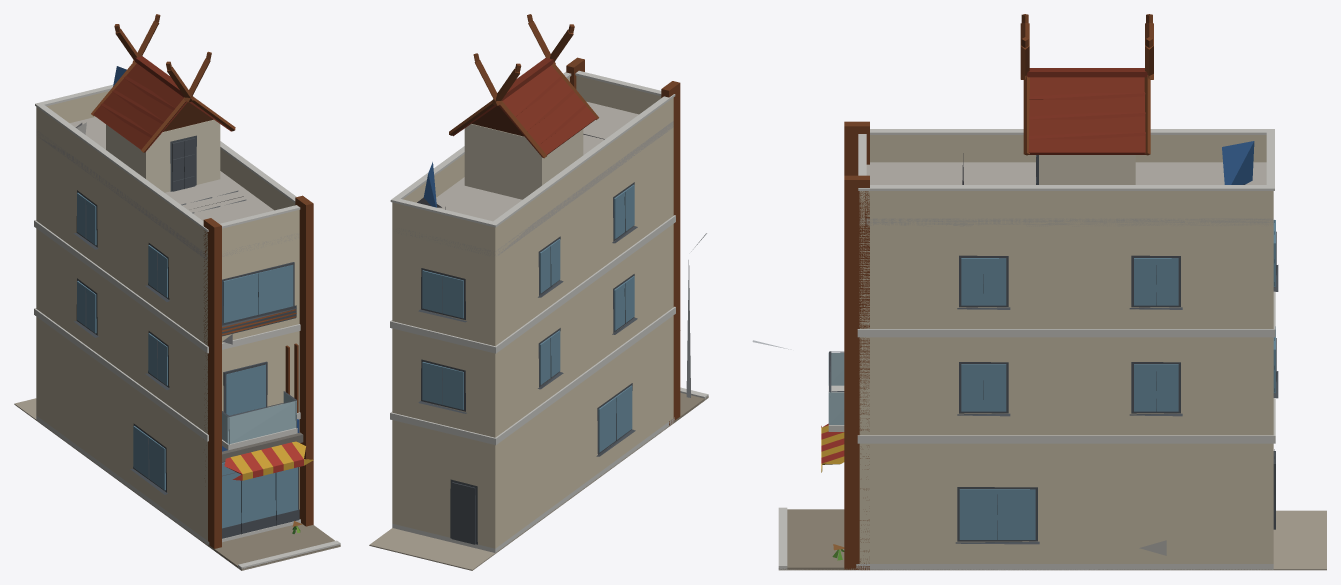
File: bay1_one.glb
3 renders of one model, left to right at view 1: azimuth 30°, elevation 25°; view 2: azimuth 150°, elevation 25°; view 3: azimuth 270°, elevation 25°, orthographic. The views are drawn at different scales.
Visible parts, largest first — view 1: body; view 2: body; view 3: body.
Boxes of the visible parts, x1,y1,x2,y2 form: body: (14, 14, 340, 570); body: (369, 14, 708, 570); body: (752, 14, 1326, 570).
Bounding box in the file's own units: 4.71 × 16.75 × 16.88.
